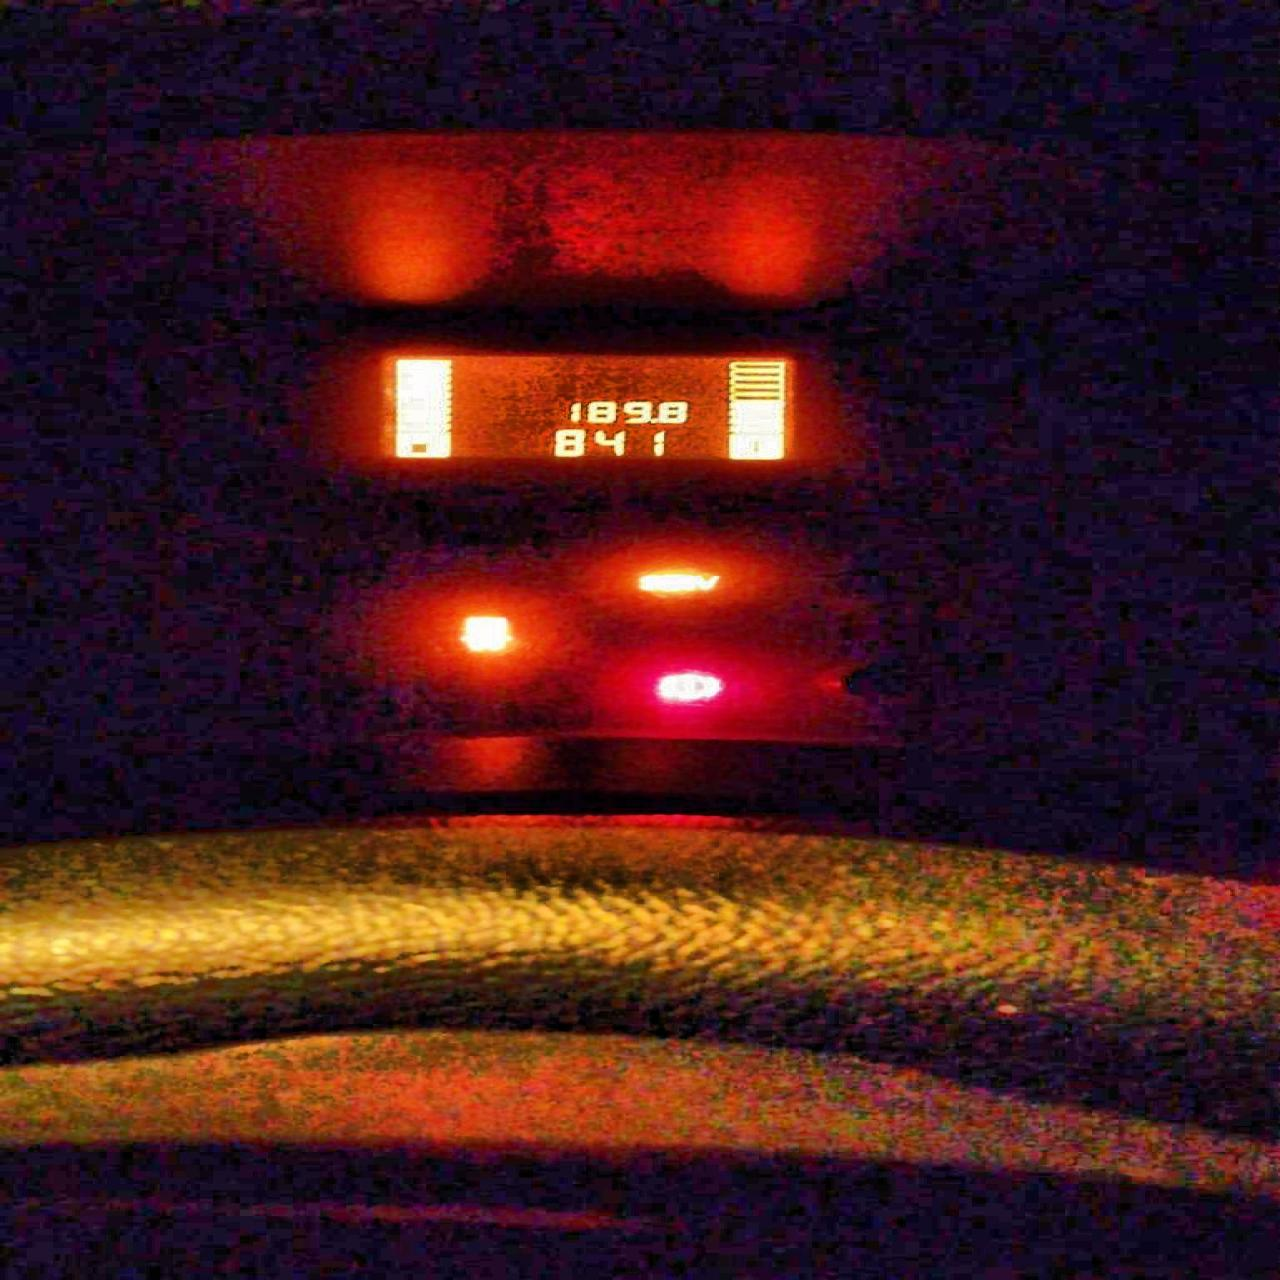-: (648, 417, 659, 423)
1: (651, 429, 666, 456), (566, 402, 583, 423)
4: (591, 429, 626, 457)
8: (551, 427, 584, 457), (655, 400, 689, 423), (584, 400, 615, 423)
9: (619, 400, 651, 423)
odometer: (358, 346, 808, 471)
